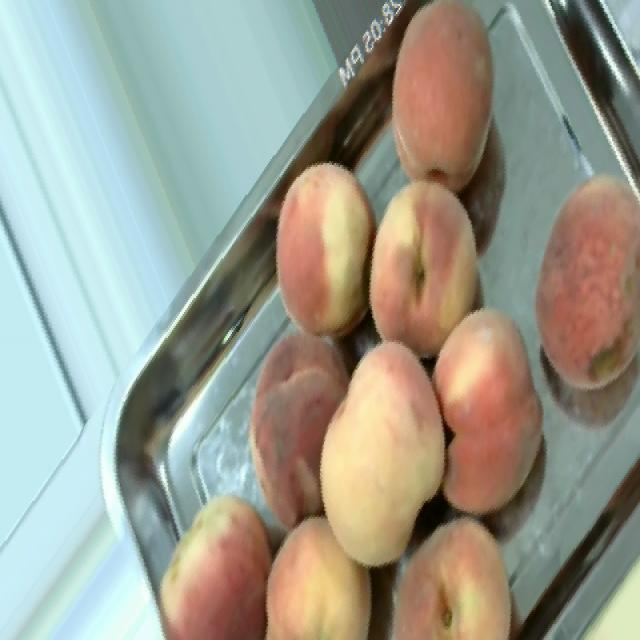Fruit: (264, 322, 440, 582), (422, 288, 566, 541), (243, 141, 392, 356), (136, 477, 332, 640), (514, 156, 640, 409), (363, 0, 512, 203), (368, 159, 503, 376), (367, 499, 544, 640)
